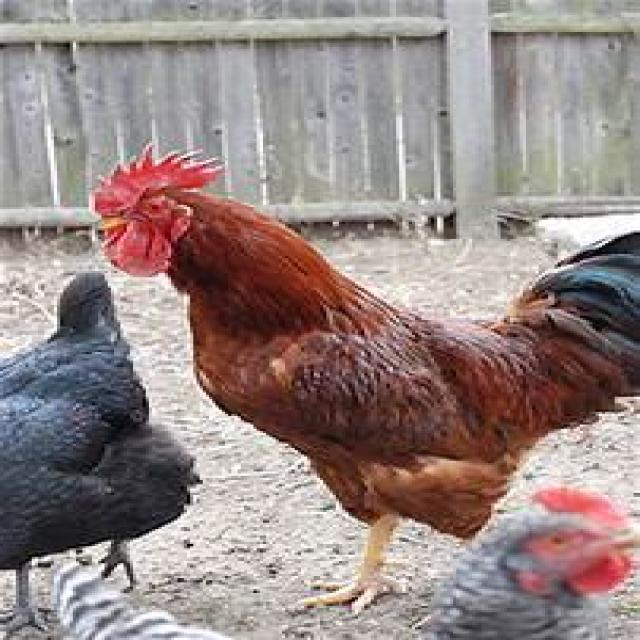animal: (85, 141, 637, 616), (0, 269, 203, 638), (405, 484, 637, 638)
